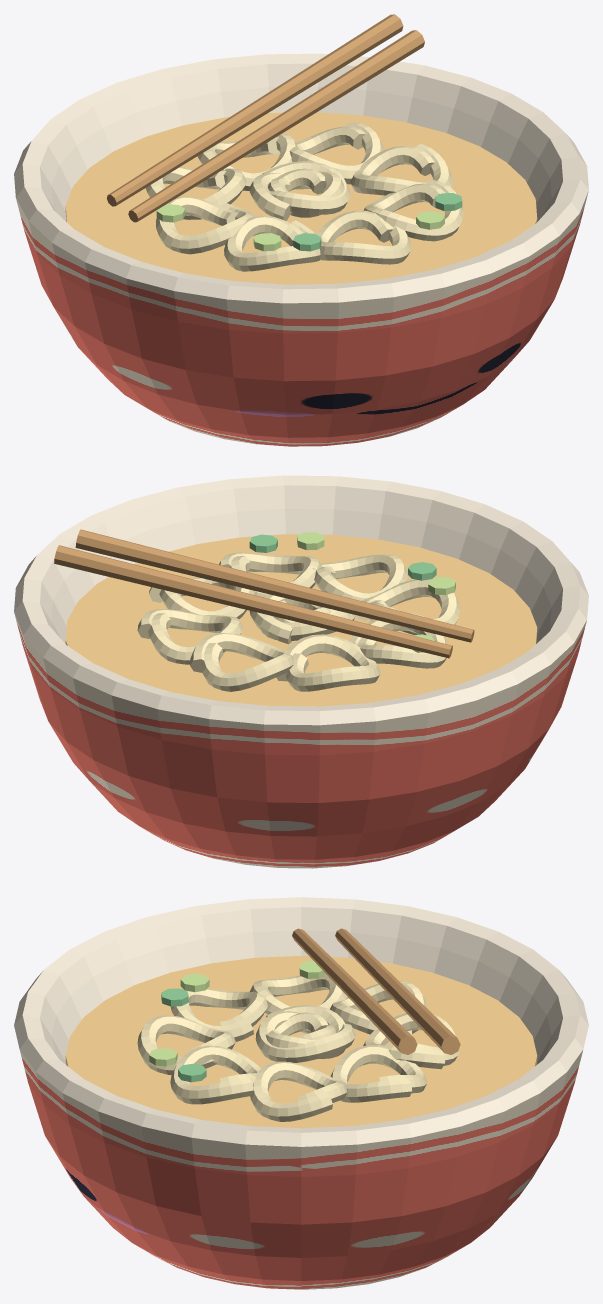
The model's file is asset.glb.
3 renders of one model, top to bottom at view 1: azimuth 30°, elevation 25°; view 2: azimuth 150°, elevation 25°; view 3: azimuth 270°, elevation 25°, orthographic.
Visible parts, largest first — view 1: Bowl - outer ceramic, Thick cream rim and inside, Broth, Chopstick right, Chopstick left, Curled noodle 06, Curled noodle 05, Curled noodle 00, Curled noodle 04, Curled noodle 07, Center noodle 0, Curled noodle 01 (+3 smaller); view 2: Bowl - outer ceramic, Thick cream rim and inside, Broth, Chopstick right, Chopstick left, Curled noodle 02, Curled noodle 03, Curled noodle 01, Curled noodle 06, Curled noodle 04, Curled noodle 07, Curled noodle 05 (+3 smaller); view 3: Bowl - outer ceramic, Thick cream rim and inside, Broth, Curled noodle 00, Curled noodle 01, Curled noodle 07, Chopstick right, Chopstick left, Center noodle 0, Curled noodle 05, Curled noodle 06, Center noodle 1 (+3 smaller).
Part boxes in pixels (x1=…): Bowl - outer ceramic: x1=16, y1=191, x2=588, y2=446; Thick cream rim and inside: x1=14, y1=53, x2=588, y2=303; Broth: x1=65, y1=112, x2=537, y2=284; Chopstick right: x1=128, y1=30, x2=424, y2=222; Chopstick left: x1=106, y1=14, x2=403, y2=206; Curled noodle 06: x1=316, y1=210, x2=411, y2=264; Curled noodle 05: x1=224, y1=215, x2=320, y2=271; Curled noodle 00: x1=350, y1=144, x2=452, y2=195; Curled noodle 04: x1=156, y1=196, x2=254, y2=254; Curled noodle 07: x1=363, y1=179, x2=463, y2=241; Center noodle 0: x1=262, y1=161, x2=350, y2=214; Curled noodle 01: x1=289, y1=122, x2=383, y2=184; Bowl - outer ceramic: x1=14, y1=613, x2=586, y2=868; Thick cream rim and inside: x1=14, y1=475, x2=588, y2=725; Broth: x1=65, y1=534, x2=537, y2=706; Chopstick right: x1=75, y1=529, x2=474, y2=642; Chopstick left: x1=54, y1=545, x2=452, y2=658; Curled noodle 02: x1=190, y1=633, x2=293, y2=691; Curled noodle 03: x1=276, y1=634, x2=380, y2=691; Curled noodle 01: x1=137, y1=609, x2=242, y2=664; Curled noodle 06: x1=312, y1=554, x2=407, y2=600; Curled noodle 04: x1=349, y1=612, x2=446, y2=668; Curled noodle 07: x1=219, y1=552, x2=321, y2=596; Curled noodle 05: x1=356, y1=579, x2=460, y2=635; Bowl - outer ceramic: x1=20, y1=1050, x2=582, y2=1289; Thick cream rim and inside: x1=14, y1=897, x2=588, y2=1146; Broth: x1=65, y1=955, x2=537, y2=1128; Curled noodle 00: x1=250, y1=1061, x2=347, y2=1121; Curled noodle 01: x1=330, y1=1045, x2=426, y2=1102; Curled noodle 07: x1=170, y1=1045, x2=260, y2=1104; Chopstick right: x1=292, y1=928, x2=417, y2=1054; Chopstick left: x1=335, y1=928, x2=460, y2=1054; Center noodle 0: x1=255, y1=1011, x2=355, y2=1062; Curled noodle 05: x1=171, y1=988, x2=267, y2=1041; Curled noodle 06: x1=137, y1=1015, x2=235, y2=1075; Center noodle 1: x1=265, y1=1005, x2=345, y2=1058.
Bounding box in the file's own units: 0.2 × 0.1045 × 0.2.
Materials: 7 (1 with a texture image).
